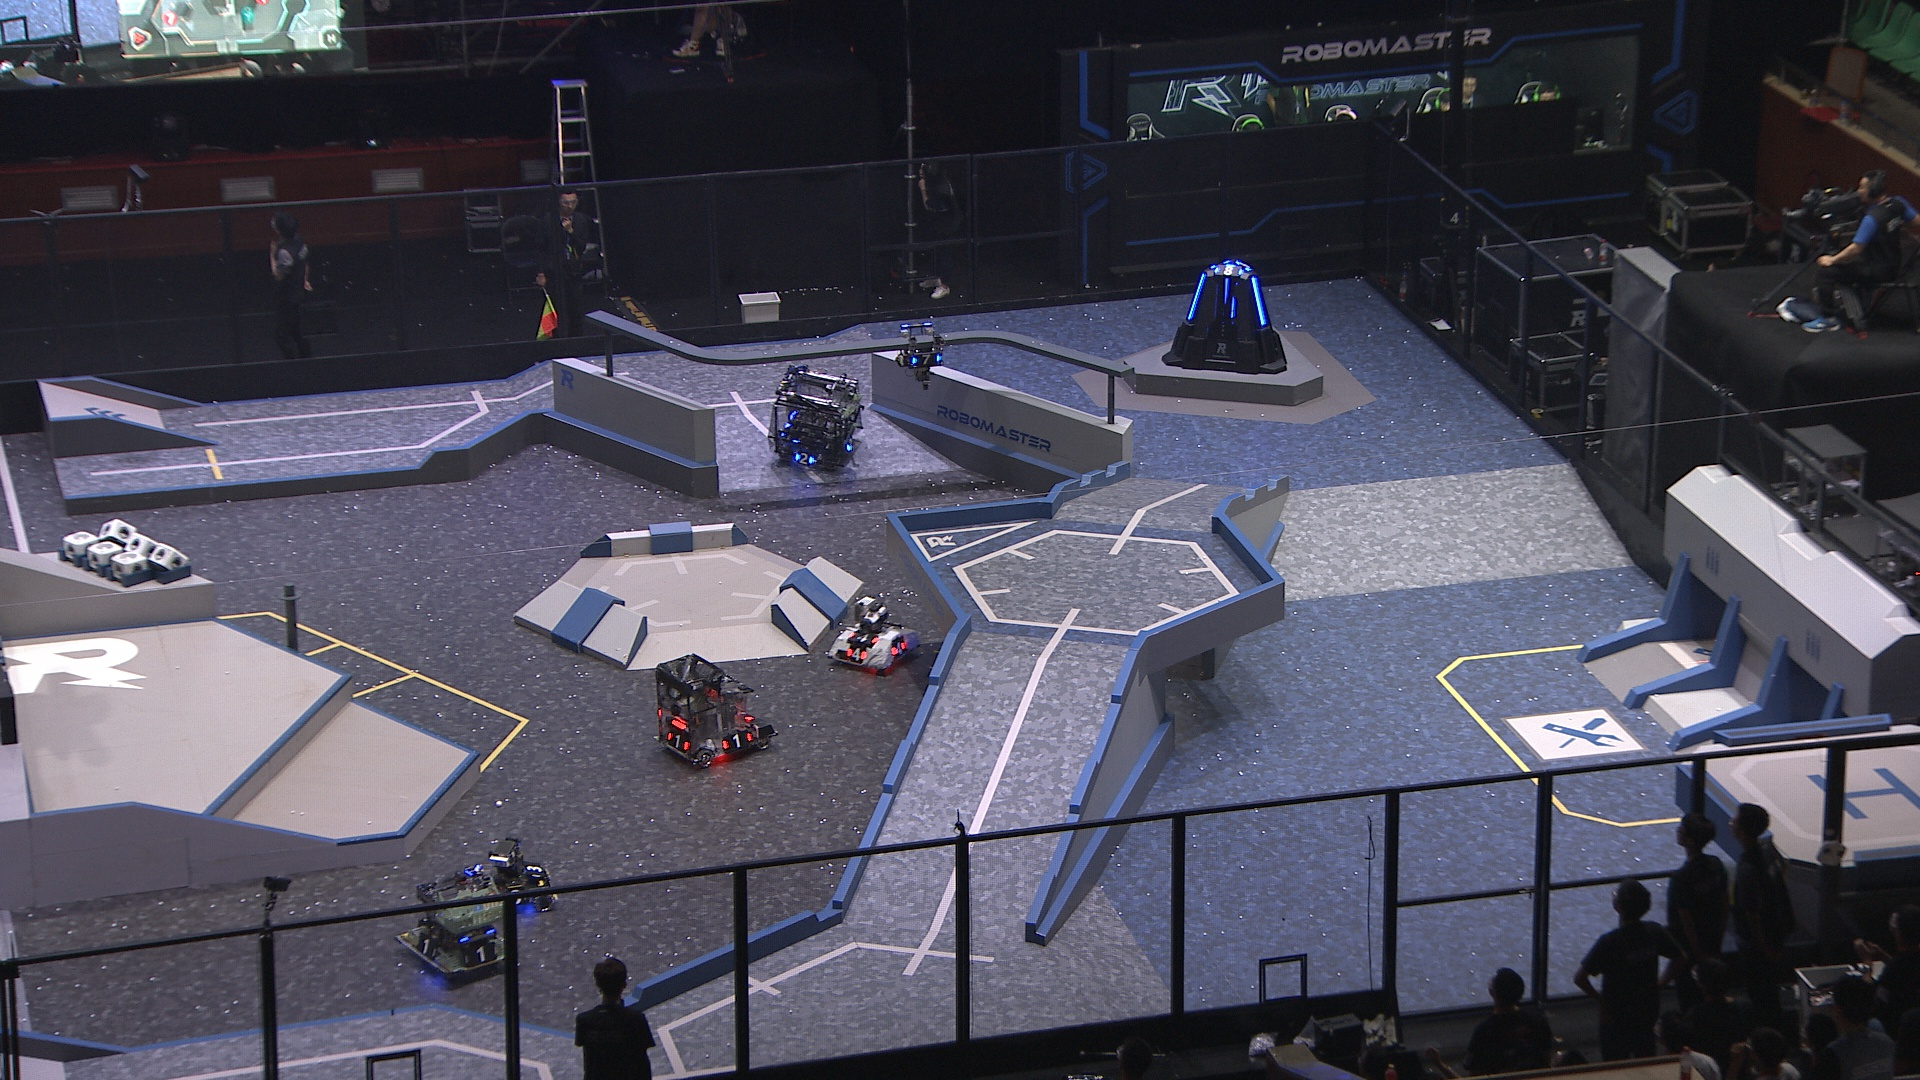armor: (1185, 272, 1209, 323), (462, 943, 500, 968), (1250, 276, 1269, 327), (721, 731, 752, 752), (417, 934, 440, 959), (666, 731, 692, 752), (913, 353, 945, 368), (849, 632, 882, 646), (1212, 264, 1244, 278), (524, 861, 547, 880), (793, 452, 818, 467), (847, 646, 869, 661), (1221, 276, 1232, 306), (1228, 295, 1240, 320), (891, 640, 909, 657), (845, 438, 858, 454)
base: (1162, 262, 1291, 375)
car: (651, 651, 779, 775), (392, 870, 516, 982), (767, 367, 868, 472), (462, 835, 560, 918), (823, 597, 924, 675)
watcher: (895, 320, 945, 392)
